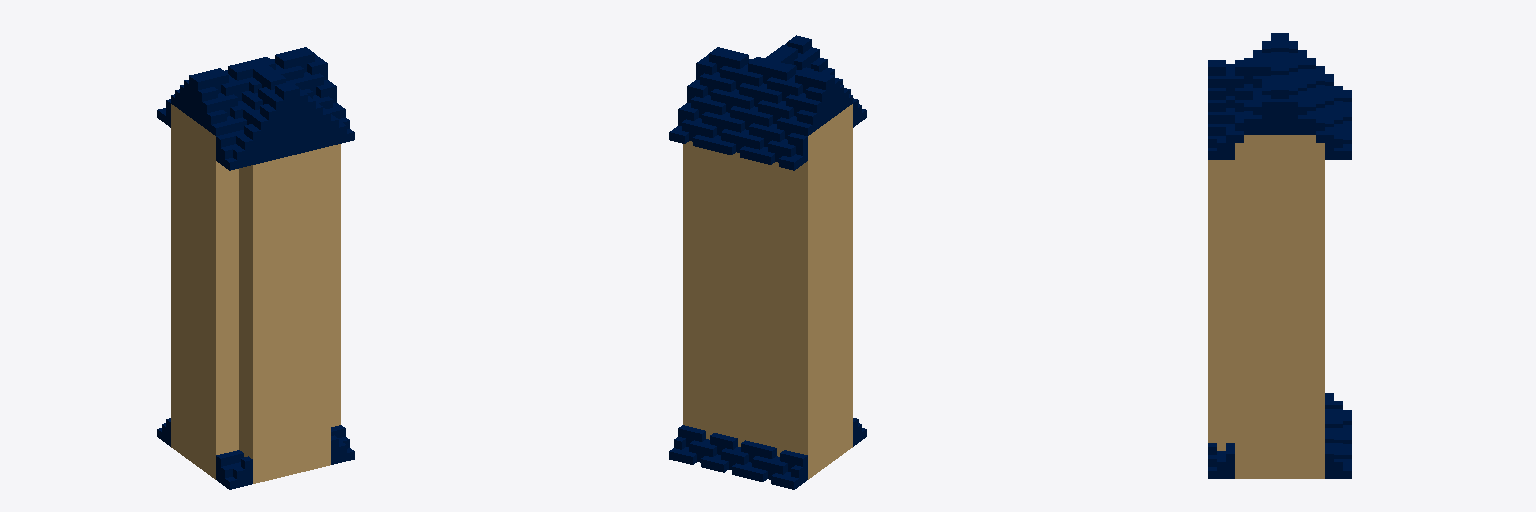
3 renders of one model, left to right at view 1: azimuth 30°, elevation 25°; view 2: azimuth 150°, elevation 25°; view 3: azimuth 270°, elevation 25°, orthographic.
Visible parts, largest first — view 1: OutsideWalls_TiledTSection; view 2: OutsideWalls_TiledTSection; view 3: OutsideWalls_TiledTSection.
Part boxes in pixels (left/top/right/bottom): OutsideWalls_TiledTSection: left=157, top=47, right=354, bottom=489; OutsideWalls_TiledTSection: left=669, top=35, right=866, bottom=489; OutsideWalls_TiledTSection: left=1208, top=33, right=1351, bottom=478.
Size of the model in its own units: 16 by 47 by 16.
1 materials, 1 textured.